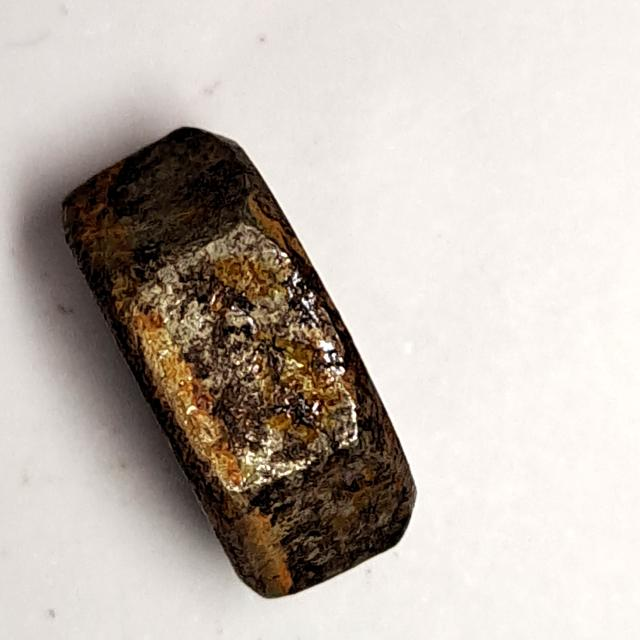Side_Rust: (43, 113, 437, 607)
